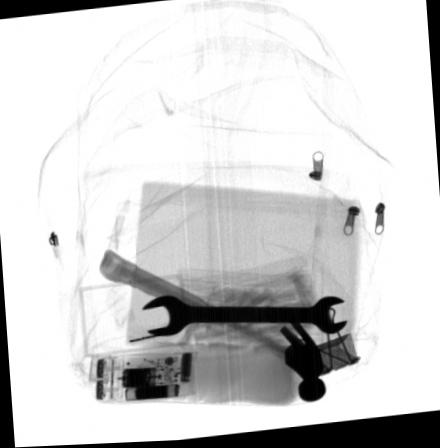Hammer: (96, 249, 325, 404)
Wrench: (141, 296, 347, 338)
